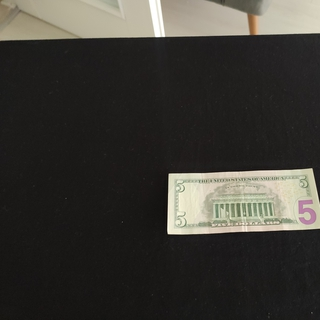5USDBack: (166, 167, 320, 235)
